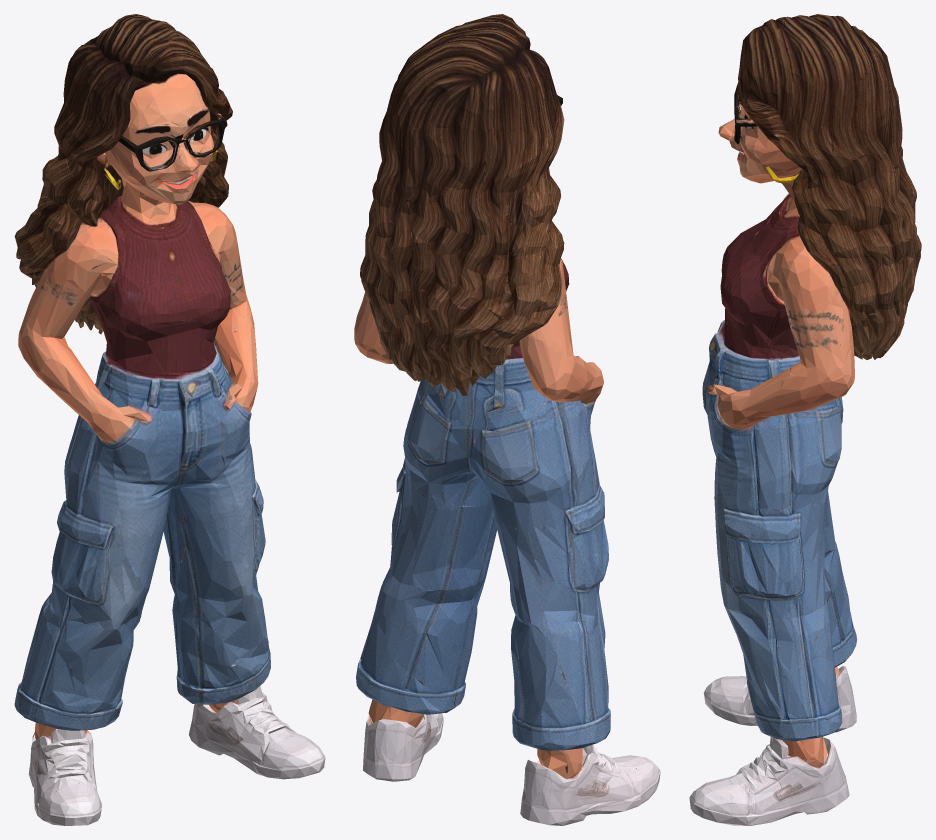
The model's file is oculos.glb.
3 views of the same model, side by side, from view 1: azimuth 30°, elevation 25°; view 2: azimuth 150°, elevation 25°; view 3: azimuth 270°, elevation 25° (orthographic). The views are drawn at different scales.
Size of the model in its own units: 0.7151 by 1.9 by 0.5364.
Materials: 1 (1 with a texture image).
